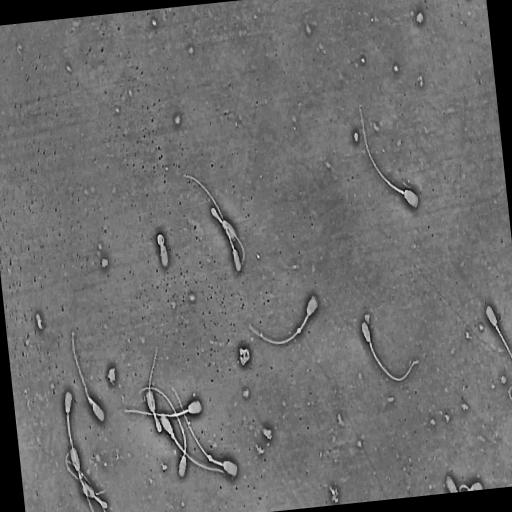coiled-tail: (157, 234, 164, 245)
dirt-particles: (237, 343, 252, 367), (329, 483, 340, 505), (262, 425, 274, 443), (34, 309, 44, 330), (106, 365, 117, 384), (414, 9, 425, 25), (99, 254, 110, 269), (353, 130, 359, 144)
distal-droplet: (208, 455, 213, 461), (297, 327, 301, 334), (83, 487, 87, 494)
folded-tail: (211, 207, 245, 275), (66, 453, 94, 496), (149, 352, 156, 415), (94, 495, 107, 508), (154, 414, 161, 433)
normal: (357, 99, 421, 211), (171, 385, 239, 479), (181, 173, 243, 274), (158, 409, 235, 480), (137, 386, 188, 479), (247, 288, 321, 345), (360, 320, 420, 387), (63, 388, 97, 499), (71, 330, 106, 424), (209, 205, 246, 279), (65, 450, 109, 510), (484, 302, 512, 365), (69, 445, 95, 512), (144, 347, 163, 434), (123, 398, 202, 418), (154, 229, 170, 270)
proximal-droplet: (171, 432, 175, 438), (496, 324, 498, 331)
